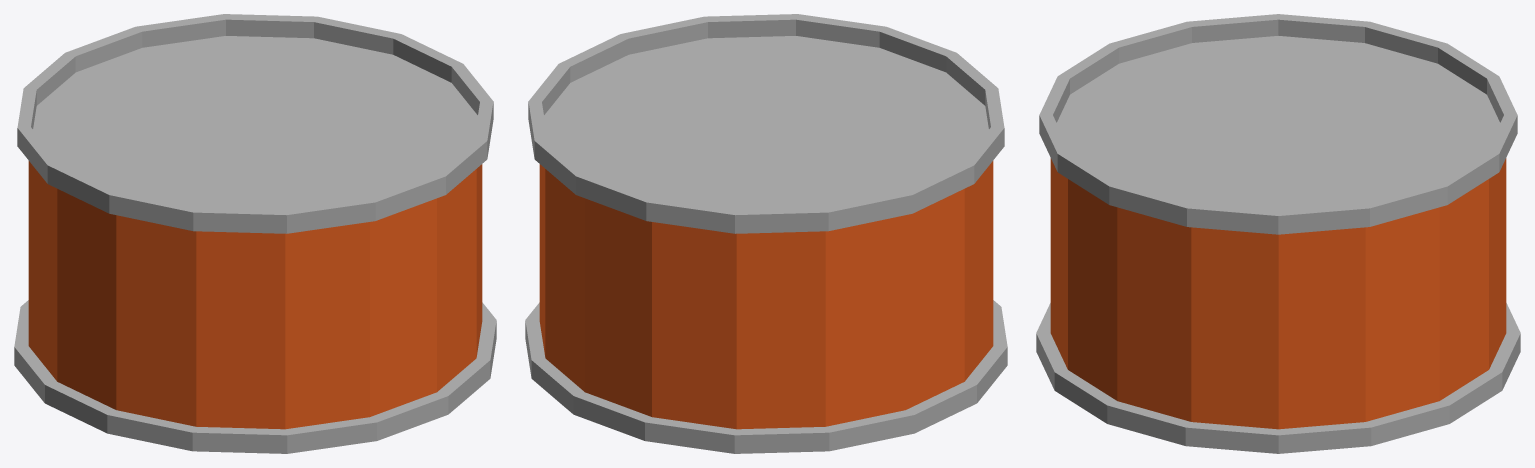
The model's file is CannedFood_03.fbx.
3 renders of one model, left to right at view 1: azimuth 30°, elevation 25°; view 2: azimuth 150°, elevation 25°; view 3: azimuth 270°, elevation 25°, orthographic.
Parts seen in each view (by area): view 1: CannedFood_03; view 2: CannedFood_03; view 3: CannedFood_03.
Boxes of the visible parts, x1=… form: CannedFood_03: x1=14, y1=14, x2=496, y2=453; CannedFood_03: x1=525, y1=14, x2=1007, y2=453; CannedFood_03: x1=1036, y1=14, x2=1520, y2=453.
Size of the model in its own units: 15.03 by 8.1 by 15.03.
